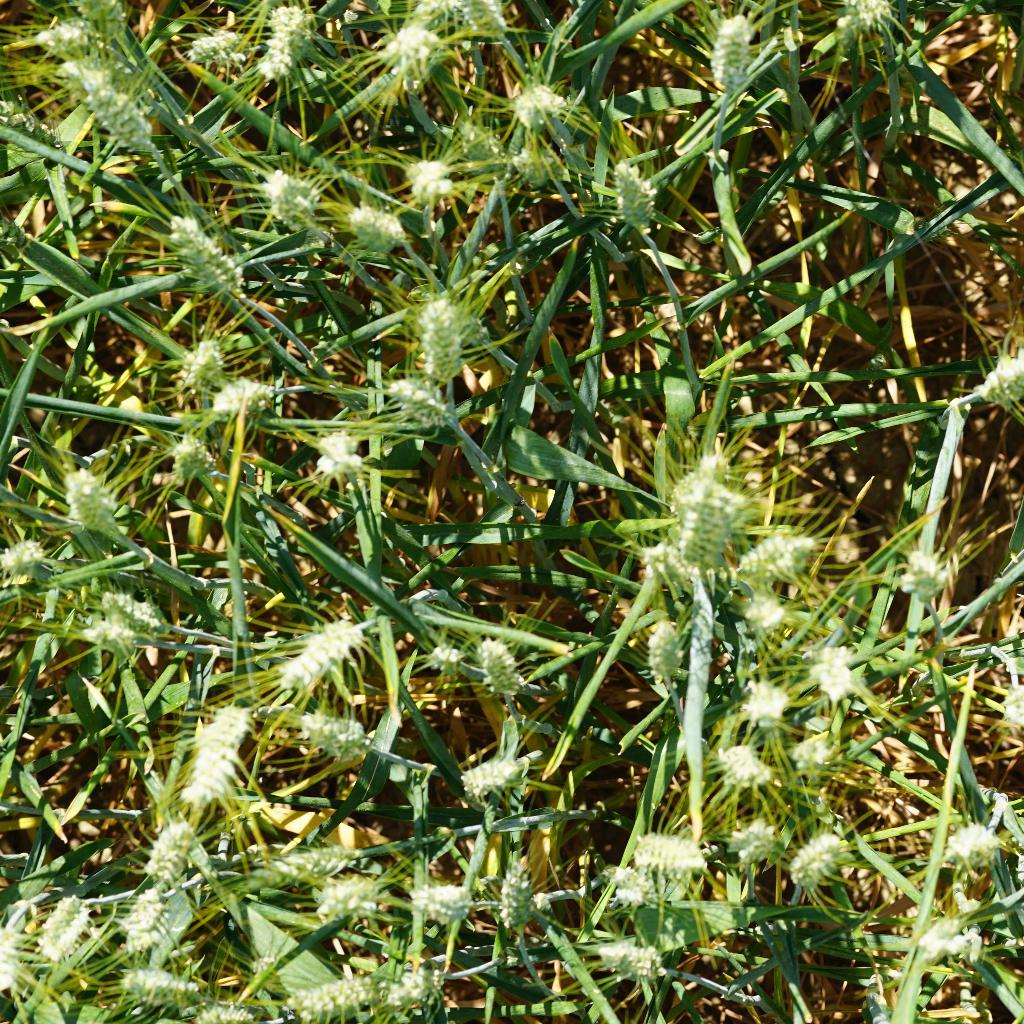0-0: (164, 684, 253, 814), (284, 956, 460, 1021), (157, 204, 249, 311), (665, 456, 744, 568), (271, 610, 376, 692), (575, 922, 683, 998), (78, 71, 167, 160), (407, 283, 474, 391), (246, 172, 332, 249), (692, 14, 769, 94), (242, 834, 373, 881), (109, 959, 223, 1009), (251, 3, 322, 83), (732, 525, 819, 590), (437, 112, 510, 187), (604, 152, 665, 240), (365, 14, 453, 75), (127, 806, 198, 881), (286, 701, 373, 762), (178, 8, 257, 75), (627, 819, 712, 881), (0, 99, 74, 168), (888, 535, 960, 604), (639, 600, 701, 680), (33, 874, 92, 957), (774, 825, 851, 888), (377, 376, 464, 430), (733, 666, 799, 736), (938, 819, 1015, 879), (59, 466, 122, 539), (96, 583, 178, 638), (467, 743, 541, 803), (966, 337, 1024, 410), (400, 871, 475, 927), (296, 428, 373, 482), (781, 720, 843, 785), (829, 0, 908, 51), (340, 202, 414, 256), (508, 73, 576, 129), (795, 647, 856, 709), (474, 631, 526, 702), (213, 373, 288, 422), (922, 907, 982, 968), (0, 527, 62, 586), (318, 870, 387, 923), (120, 888, 178, 950), (408, 636, 471, 691), (496, 856, 542, 931), (725, 586, 793, 636), (403, 152, 462, 208), (716, 731, 769, 793), (34, 23, 98, 73), (725, 811, 777, 867), (164, 434, 221, 485), (440, 0, 516, 37), (601, 863, 661, 909), (504, 144, 559, 193), (169, 332, 223, 381), (82, 617, 138, 664), (66, 0, 134, 37), (245, 948, 284, 1001), (185, 997, 253, 1024)
